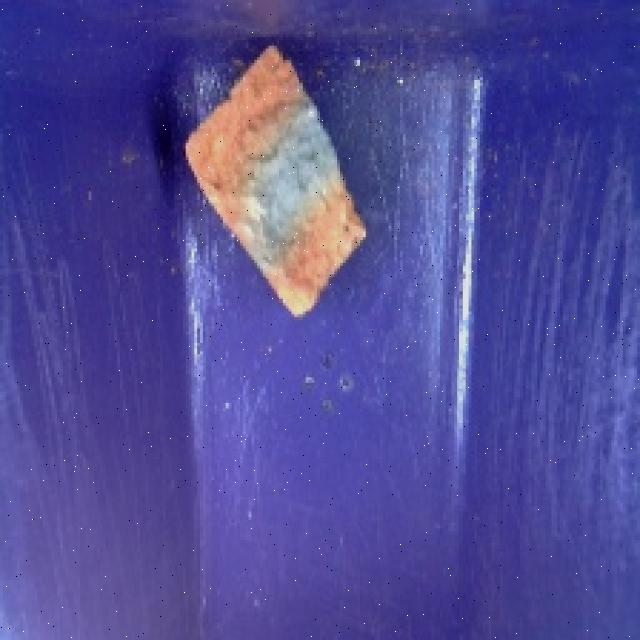brick: (174, 35, 378, 328)
